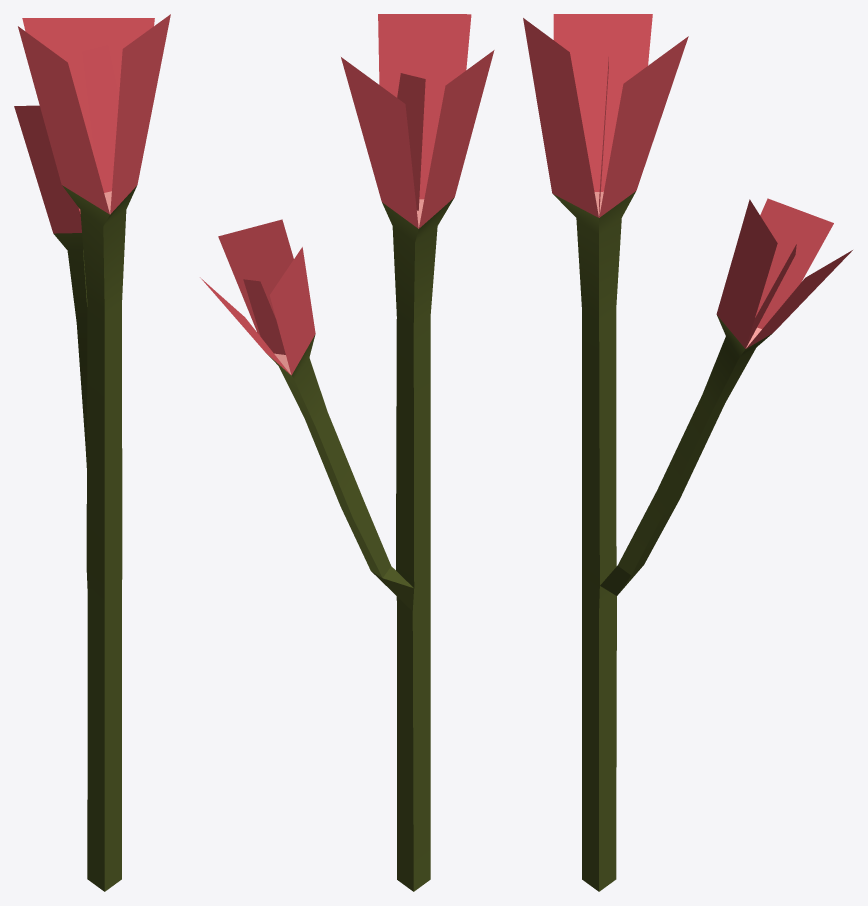
Rendered from flower_tulip_double.fbx.
The picture shows the model from 3 angles, left to right: view 1: azimuth 30°, elevation 25°; view 2: azimuth 150°, elevation 25°; view 3: azimuth 270°, elevation 25°; orthographic projection. The views are drawn at different scales.
Visible parts, largest first — view 1: pCylinder15; view 2: pCylinder15; view 3: pCylinder15.
Boxes of the visible parts, box(x1,y1,x2,y2) form: pCylinder15: box(14, 14, 170, 891); pCylinder15: box(200, 14, 494, 891); pCylinder15: box(523, 14, 852, 891).
Bounding box in the file's own units: 35.05 × 166 × 58.23.
